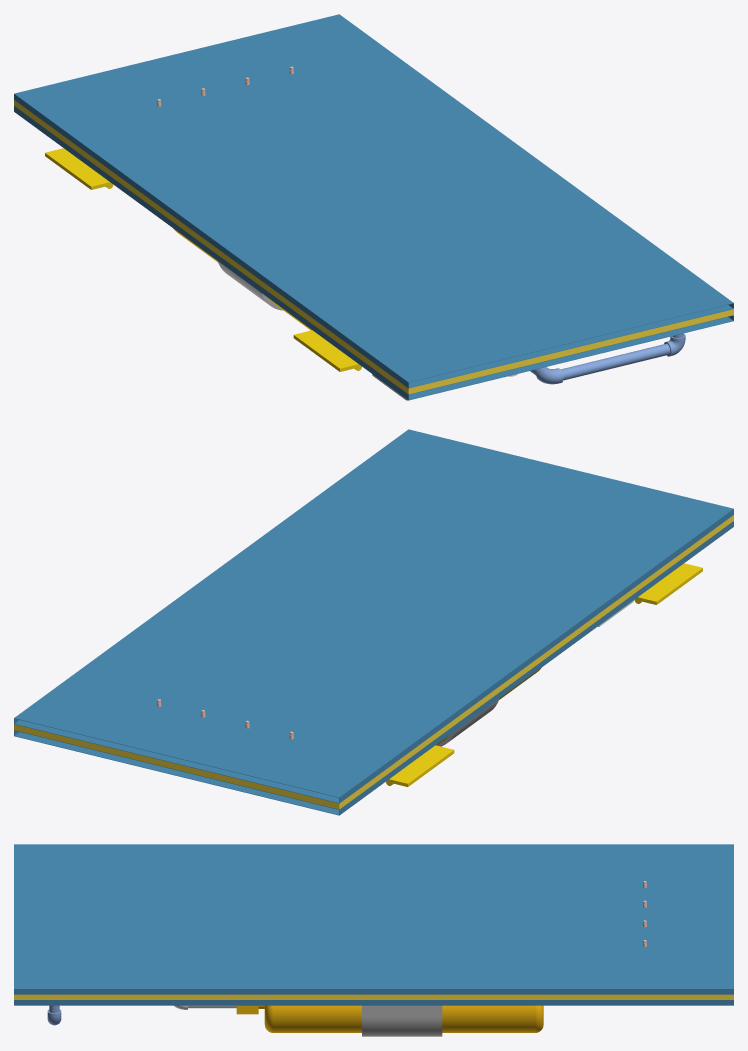
File: FireSuppressionSystem.glb
3 views of the same model, one above another, from view 1: azimuth 30°, elevation 25°; view 2: azimuth 150°, elevation 25°; view 3: azimuth 270°, elevation 25° (orthographic). The views are drawn at different scales.
Visible parts, largest first — view 1: Part 2, Part 1, Part 8, Part 3, Part 12, Part 11; view 2: Part 2, Part 8, Part 1, Part 11, Part 12; view 3: Part 2, Part 7, Part 1, Part 8, Part 10.
Boxes of the visible parts, bbox=[...] form: Part 2: bbox=[14, 14, 733, 388]; Part 1: bbox=[14, 106, 733, 400]; Part 8: bbox=[14, 100, 733, 394]; Part 3: bbox=[530, 333, 685, 384]; Part 12: bbox=[45, 148, 113, 189]; Part 11: bbox=[293, 330, 361, 371]; Part 2: bbox=[14, 429, 733, 803]; Part 8: bbox=[14, 515, 733, 809]; Part 1: bbox=[14, 521, 733, 815]; Part 11: bbox=[634, 563, 702, 604]; Part 12: bbox=[386, 745, 454, 786]; Part 2: bbox=[14, 844, 733, 994]; Part 7: bbox=[236, 1005, 543, 1032]; Part 1: bbox=[14, 1000, 733, 1005]; Part 8: bbox=[14, 994, 733, 999]; Part 10: bbox=[362, 1005, 442, 1036].
Size of the model in its own units: 1.07 by 0.272 by 2.13.
